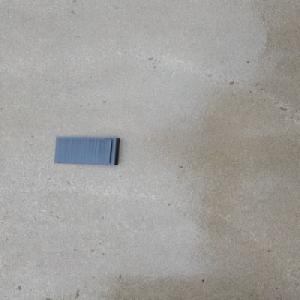PlasticPart: (52, 136, 122, 165)
